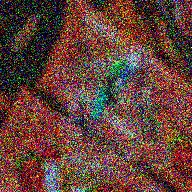러키펜정: (126, 54, 140, 72)
씨엠지세파클러캡슐: (111, 67, 131, 95)
에르도캡슐: (91, 87, 109, 121)
휴티렌정: (109, 58, 126, 80)
